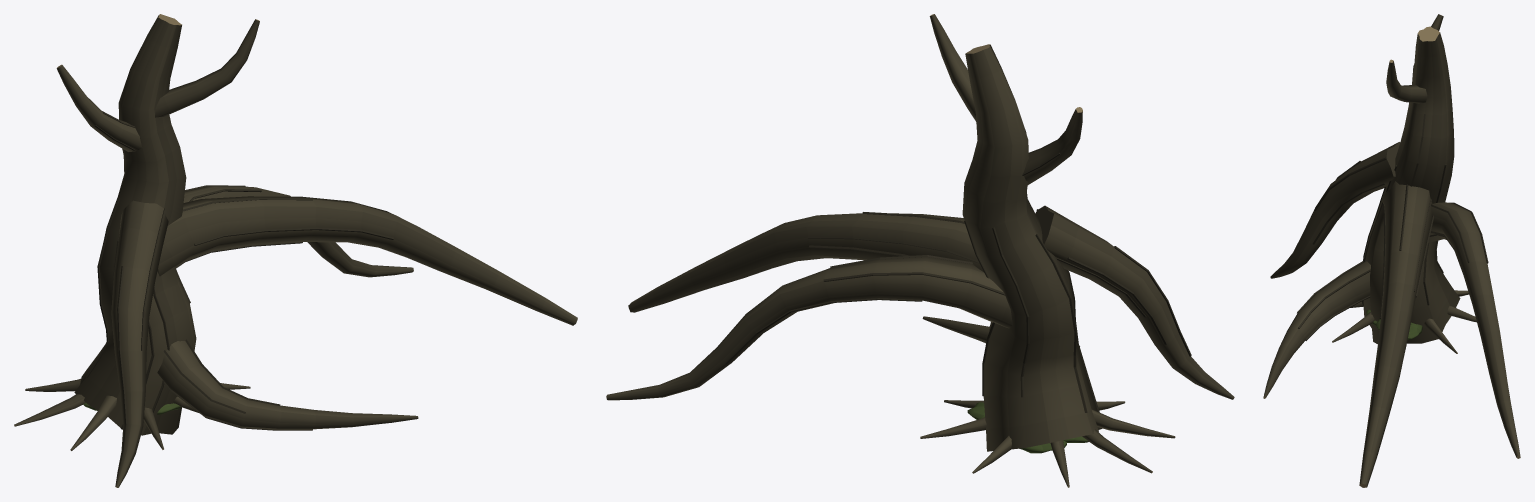
Rendered from strange_root_arch_c.glb.
3 renders of one model, left to right at view 1: azimuth 30°, elevation 25°; view 2: azimuth 150°, elevation 25°; view 3: azimuth 270°, elevation 25°, orthographic. The views are drawn at different scales.
Visible parts, largest first — view 1: strange_root_arch_c; view 2: strange_root_arch_c; view 3: strange_root_arch_c.
Boxes of the visible parts, x1=… form: strange_root_arch_c: x1=14, y1=14, x2=577, y2=487; strange_root_arch_c: x1=606, y1=14, x2=1234, y2=487; strange_root_arch_c: x1=1263, y1=14, x2=1520, y2=487.
Size of the model in its own units: 14.42 by 10.17 by 7.29.
